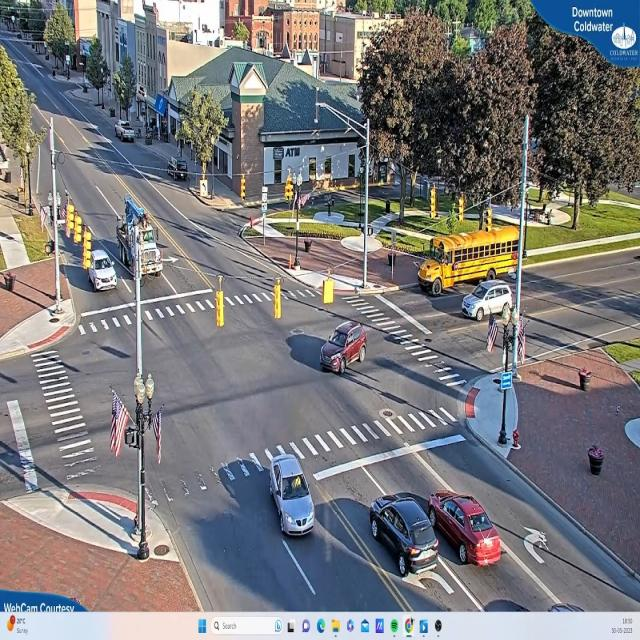bus: (416, 228, 520, 297)
car: (369, 492, 443, 578), (427, 491, 506, 569), (267, 454, 314, 536), (319, 318, 369, 376), (462, 281, 516, 320), (88, 242, 118, 295), (117, 121, 137, 145)
truck: (116, 190, 158, 284)
